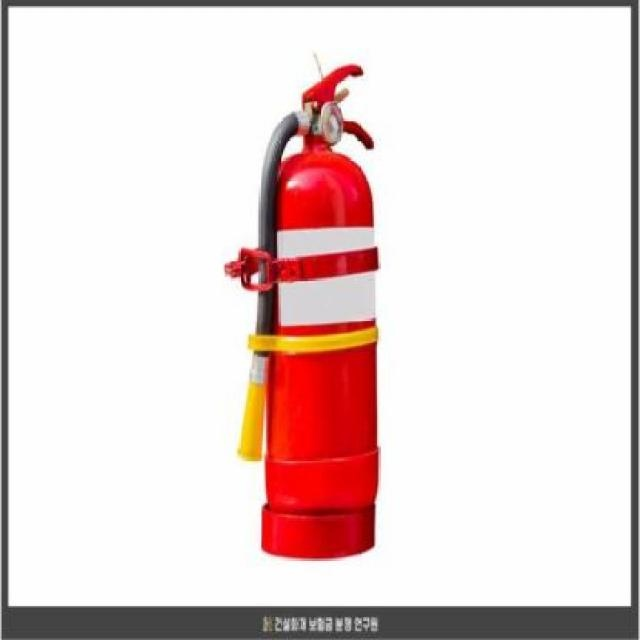fire extinguisher: (225, 65, 380, 560)
